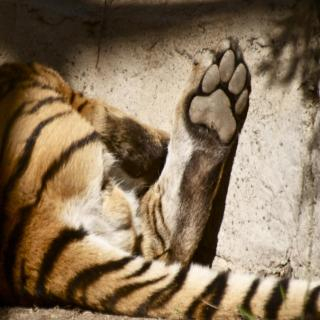Tiger: (0, 34, 319, 317)
